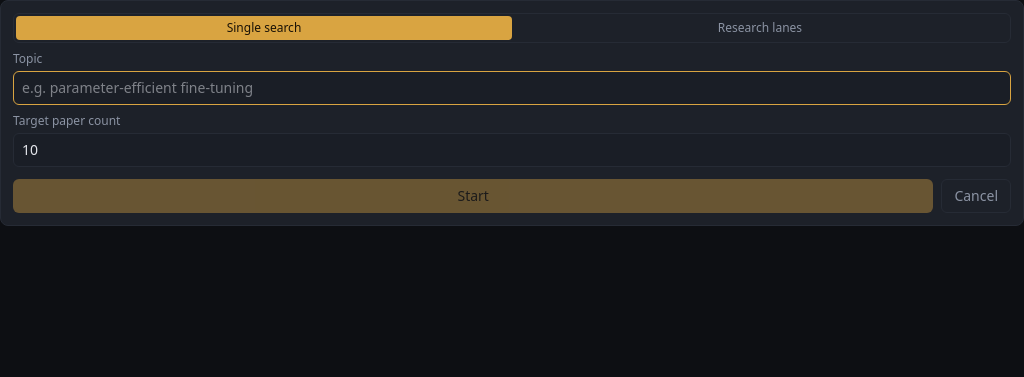
Test case: NewReviewForm -- research lanes › shows a polite "Designing research lanes…" status and disables Suggest while loading
Click the button with test id "new-review-mode-lanes".
click(760, 28)  # box [512, 16, 1008, 40]
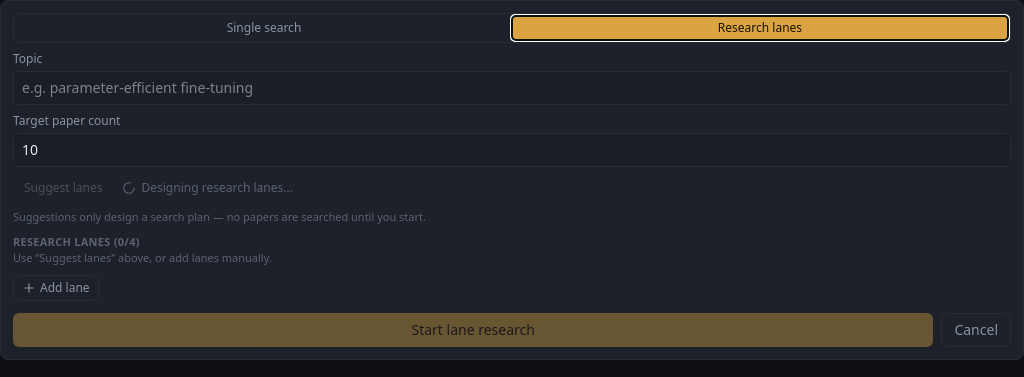
Check: the message with test id "lane-suggestion-status" reads "Designing research lanes…", box [142, 179, 293, 196]
Check: the button with test id "new-review-suggest-lanes" is disabled, box [13, 175, 114, 201]
